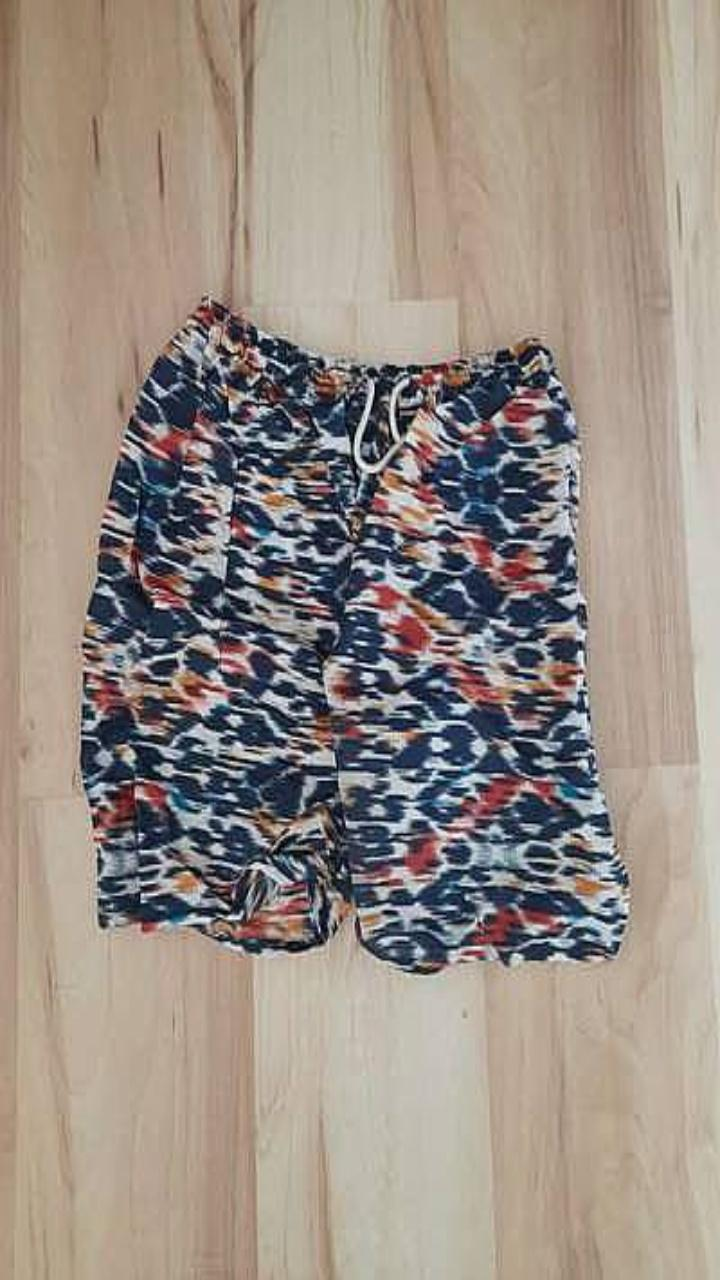Shorts: (81, 295, 628, 971)
